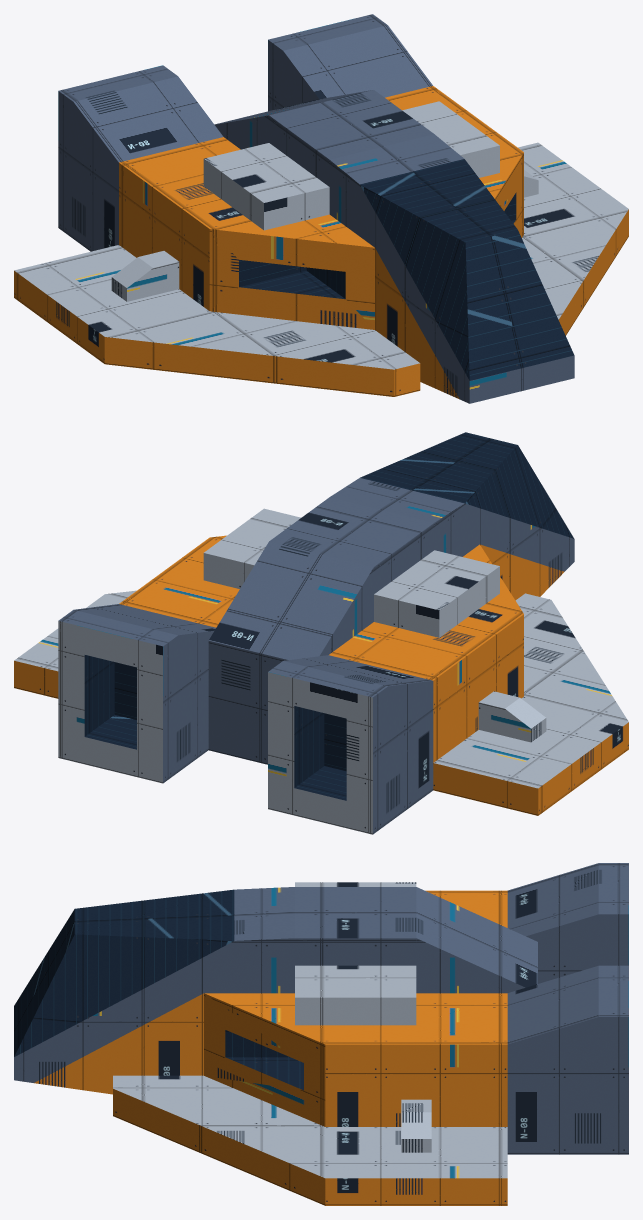
File: nave.obj
3 renders of one model, top to bottom at view 1: azimuth 30°, elevation 25°; view 2: azimuth 150°, elevation 25°; view 3: azimuth 270°, elevation 25°, orthographic.
Parts seen in each view (by area): view 1: craft_speederB; view 2: craft_speederB; view 3: craft_speederB.
Boxes of the visible parts, left/top/right/bottom form: craft_speederB: left=14, top=14, right=628, bottom=403; craft_speederB: left=14, top=432, right=628, bottom=834; craft_speederB: left=14, top=863, right=628, bottom=1205.
Bounding box in the file's own units: 2 × 0.6 × 2.03.
Materials: 4 (4 with a texture image).
